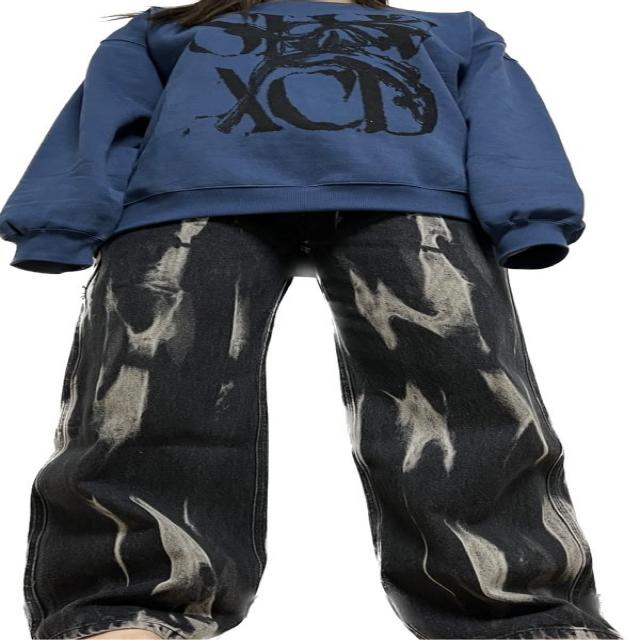denimpants: (26, 207, 620, 640)
hoodies: (0, 0, 587, 273)
